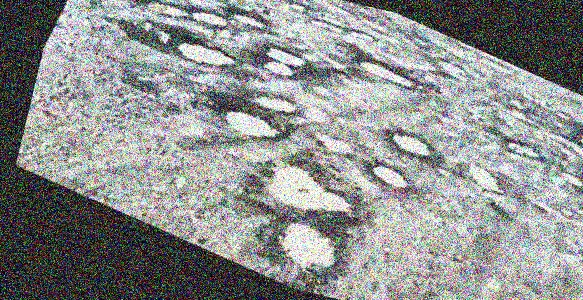pothole: (254, 150, 371, 232), (267, 211, 353, 280), (210, 95, 290, 150), (171, 28, 242, 76), (351, 51, 428, 95), (247, 82, 304, 122), (386, 124, 438, 161), (124, 0, 194, 27), (460, 159, 510, 196), (308, 126, 359, 159), (366, 159, 417, 192), (226, 0, 274, 33), (261, 41, 310, 71), (189, 1, 232, 31), (502, 134, 544, 162), (258, 54, 298, 80), (569, 120, 583, 188)
